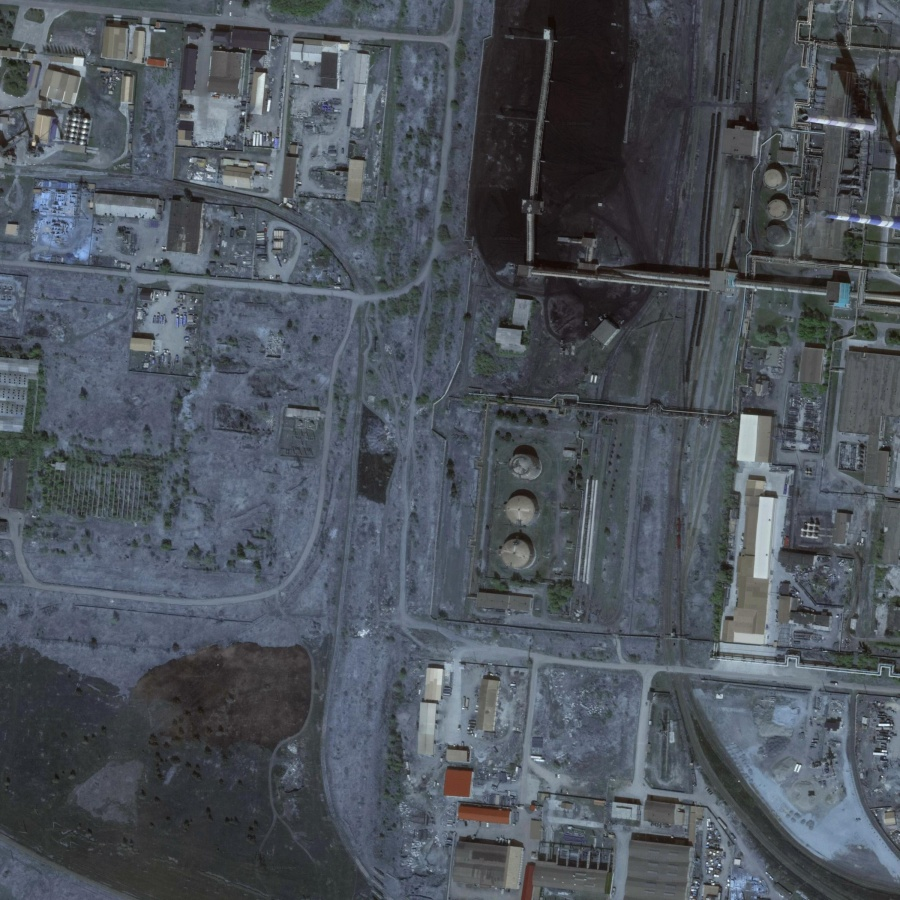PowerPlant: (460, 387, 608, 629)
